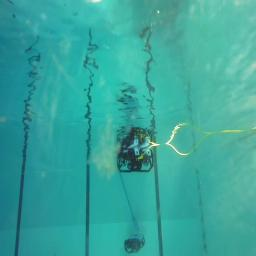Side: (124, 233, 146, 253)
back: (117, 148, 153, 172)
